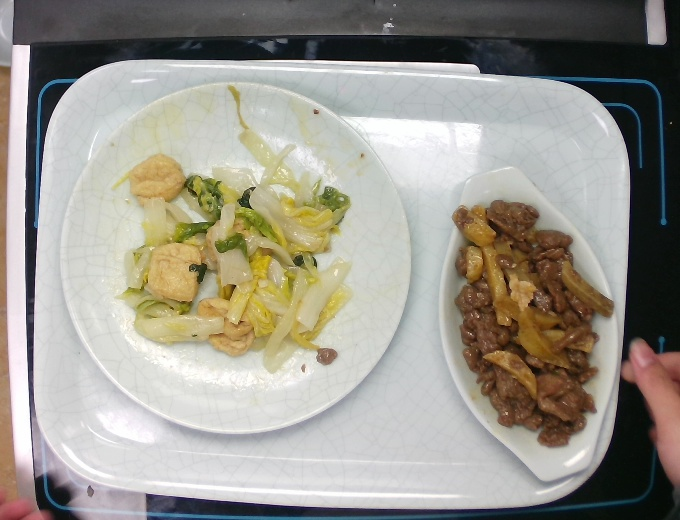JYsf-Da_Yuan_Pan: (50, 69, 413, 443)
JYsf-Yu_Pan: (425, 154, 619, 493)
